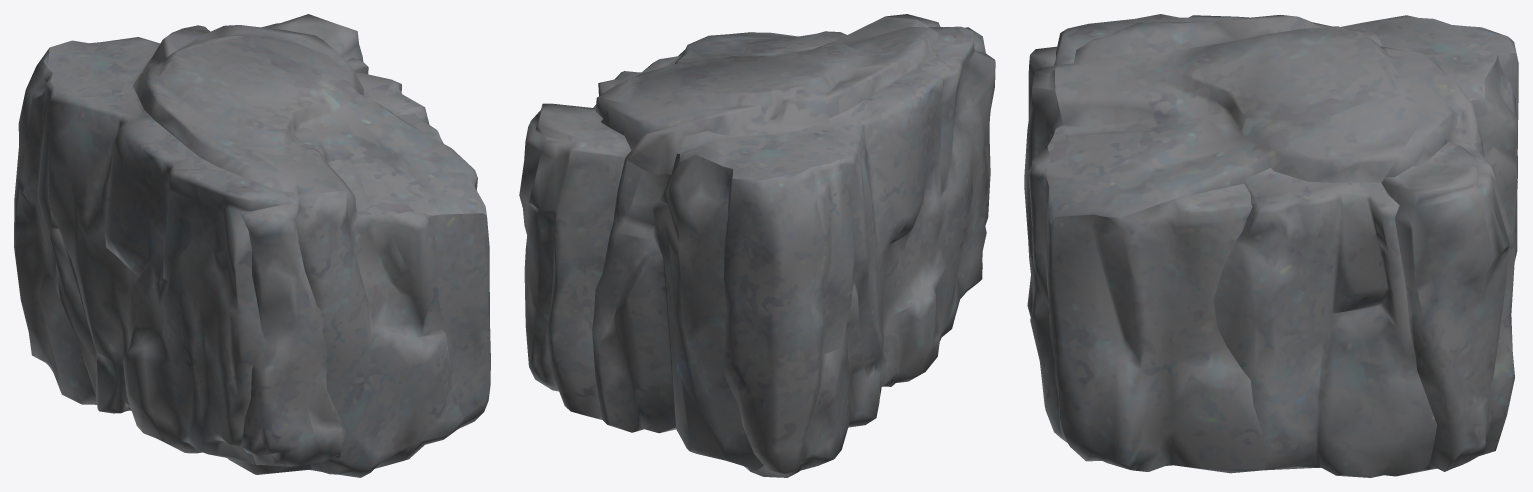
Rendered from SM_BigStone_01.fbx.
The picture shows the model from 3 angles, left to right: view 1: azimuth 30°, elevation 25°; view 2: azimuth 150°, elevation 25°; view 3: azimuth 270°, elevation 25°; orthographic projection. The views are drawn at different scales.
Parts seen in each view (by area): view 1: SM_BigStone_01; view 2: SM_BigStone_01; view 3: SM_BigStone_01.
Boxes of the visible parts, x1,y1,x2,y2 form: SM_BigStone_01: [14, 14, 490, 477]; SM_BigStone_01: [519, 14, 995, 477]; SM_BigStone_01: [1024, 14, 1518, 477].
Bounding box in the file's own units: 1366 × 1644 × 1355.
Materials: 1 (1 with a texture image).
